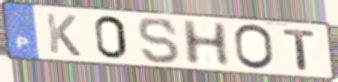0: (92, 15, 131, 62)
H: (179, 19, 233, 67)
K: (43, 11, 83, 58)
O: (232, 23, 277, 72)
S: (136, 16, 182, 65)
T: (281, 28, 319, 72)
